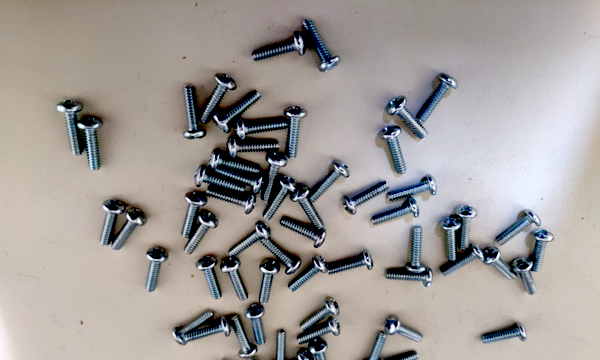shortscrew: (213, 90, 262, 134), (303, 18, 341, 72), (418, 73, 458, 123), (200, 73, 237, 125), (387, 96, 430, 140), (496, 209, 542, 247), (262, 176, 299, 222), (309, 161, 350, 202), (342, 180, 391, 214), (251, 32, 306, 62), (290, 185, 325, 232), (56, 99, 84, 157), (288, 254, 329, 293), (183, 211, 219, 255), (229, 221, 272, 257), (280, 217, 328, 249), (440, 244, 486, 277), (261, 239, 302, 276), (172, 310, 214, 346), (112, 208, 147, 251), (370, 196, 420, 226), (195, 166, 246, 195), (77, 117, 104, 171), (300, 296, 340, 332), (387, 174, 438, 202), (209, 149, 260, 177), (214, 167, 265, 195), (206, 187, 256, 215), (379, 126, 408, 174), (261, 153, 288, 203), (227, 135, 280, 160), (220, 257, 249, 302), (99, 200, 126, 247), (296, 317, 341, 345), (236, 118, 288, 142), (183, 86, 206, 140), (230, 315, 258, 359), (182, 192, 208, 239), (327, 251, 374, 277), (285, 107, 308, 160), (145, 247, 170, 293), (185, 317, 231, 342), (196, 256, 222, 300), (510, 257, 539, 296), (483, 248, 516, 282), (384, 315, 424, 343), (481, 322, 527, 346), (530, 229, 555, 273), (405, 226, 426, 274), (385, 268, 434, 288), (456, 205, 478, 249), (439, 218, 461, 261), (259, 260, 280, 304), (245, 304, 266, 346), (362, 333, 388, 360), (270, 329, 290, 360), (309, 337, 331, 360), (376, 350, 420, 360), (278, 349, 315, 360), (217, 359, 258, 360), (244, 359, 278, 360)
